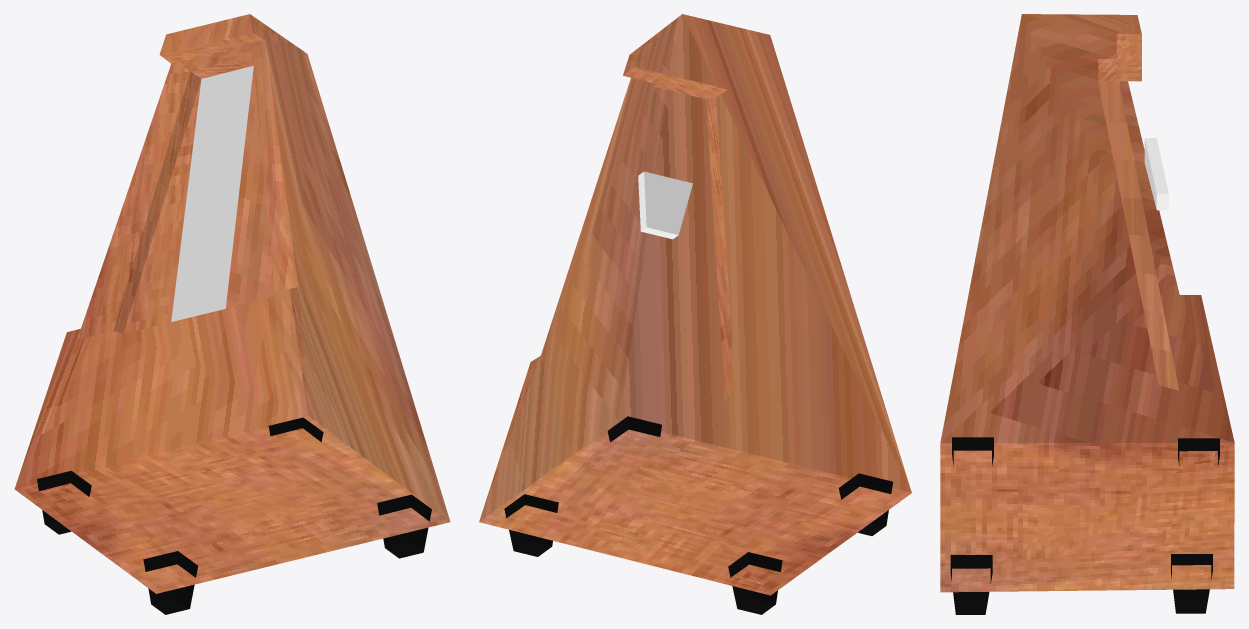
File: ps2_save-icons_themaestromusic2.glb
3 renders of one model, left to right at view 1: azimuth 30°, elevation 25°; view 2: azimuth 150°, elevation 25°; view 3: azimuth 270°, elevation 25°, orthographic. The views are drawn at different scales.
Visible parts, largest first — view 1: icondata.0; view 2: icondata.0; view 3: icondata.0.
Boxes of the visible parts, <box> form: icondata.0: <box>14,14,450,614</box>; icondata.0: <box>479,14,911,614</box>; icondata.0: <box>940,14,1234,614</box>.
Size of the model in its own units: 2.52 by 4.2 by 2.1.
Materials: 1 (1 with a texture image).
